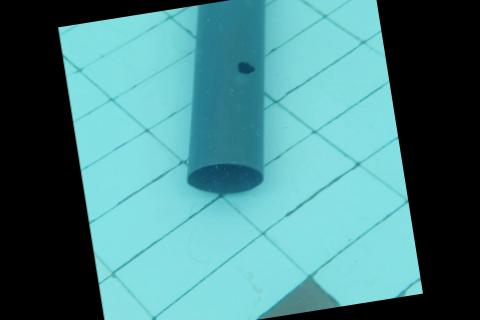kebocoran: (235, 58, 255, 75)
